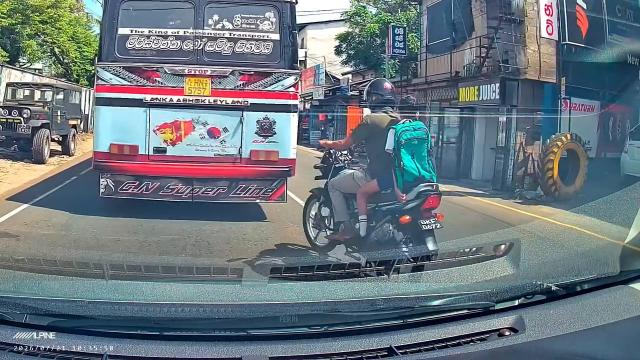no helmet: (393, 92, 422, 126)
number plate: (416, 217, 446, 235)
